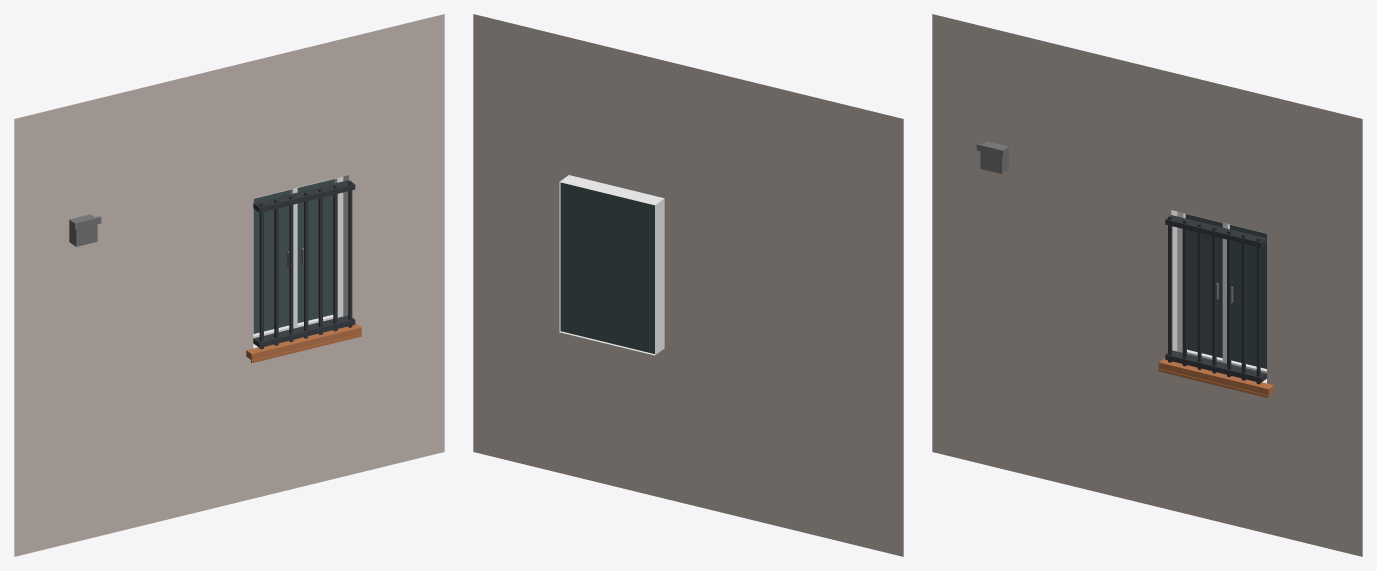
Rendered from top-w2_close.fbx.
3 views of the same model, side by side, from view 1: azimuth 30°, elevation 25°; view 2: azimuth 150°, elevation 25°; view 3: azimuth 330°, elevation 25° (orthographic).
Visible parts, largest first — view 1: a2000s2/200/top-w2_close; view 2: a2000s2/200/top-w2_close; view 3: a2000s2/200/top-w2_close.
Part boxes in pixels (x1,y1,x2,y2): a2000s2/200/top-w2_close: (14,14,444,556); a2000s2/200/top-w2_close: (473,14,903,556); a2000s2/200/top-w2_close: (932,14,1362,556).
Size of the model in its own units: 3.6 by 3.5 by 0.26.
